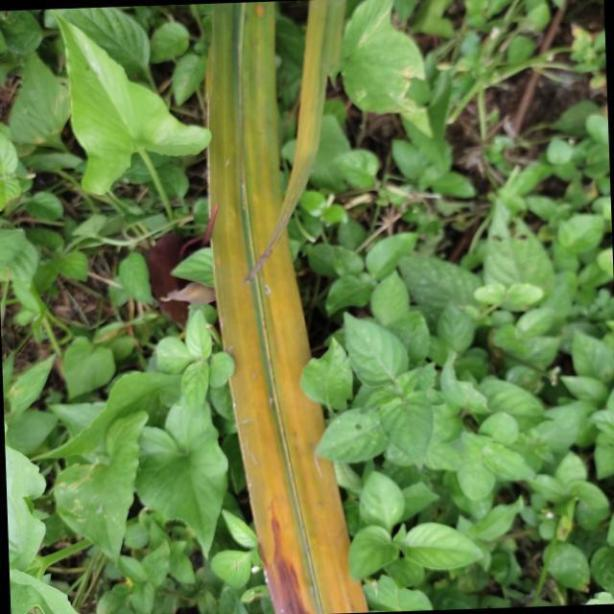Megnesium: (202, 0, 364, 614)
